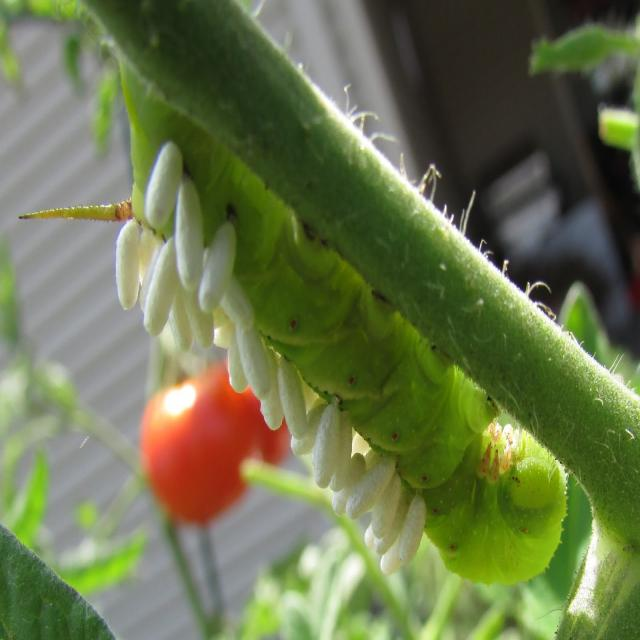caterpillar: (96, 39, 581, 591)
